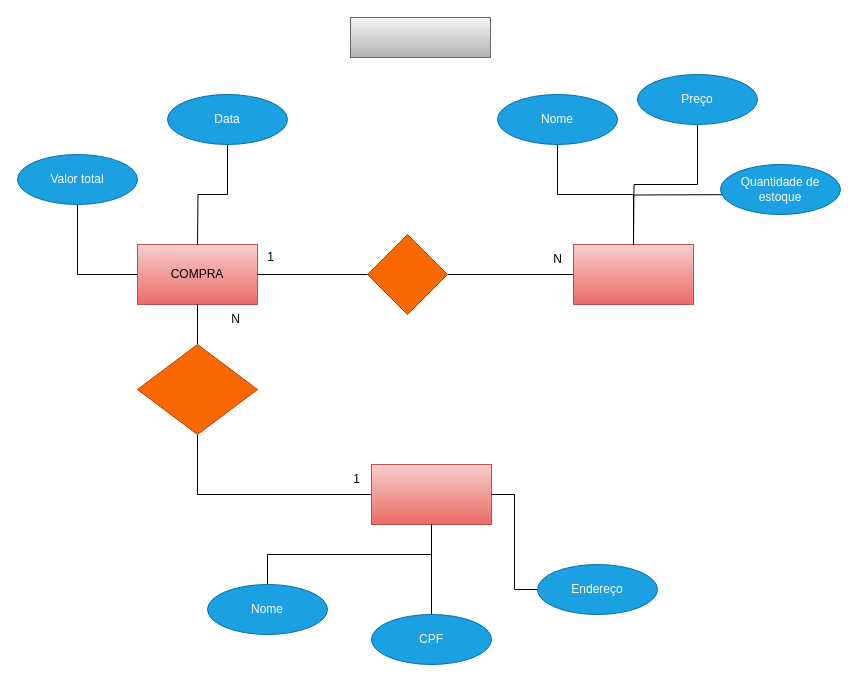
Some shapes in this 858 by 682 pixel diagram are drawn without their labels. The shapes that lost their labels are listed below. From the top down, each one's box as (x1, y1, x2, y2) in pixels, then its label:
(350, 16, 490, 58): Loja Online
(366, 234, 448, 314): Contem
(572, 244, 694, 304): PRODUTO
(136, 344, 258, 434): Realiza
(370, 464, 492, 524): CLIENTE
